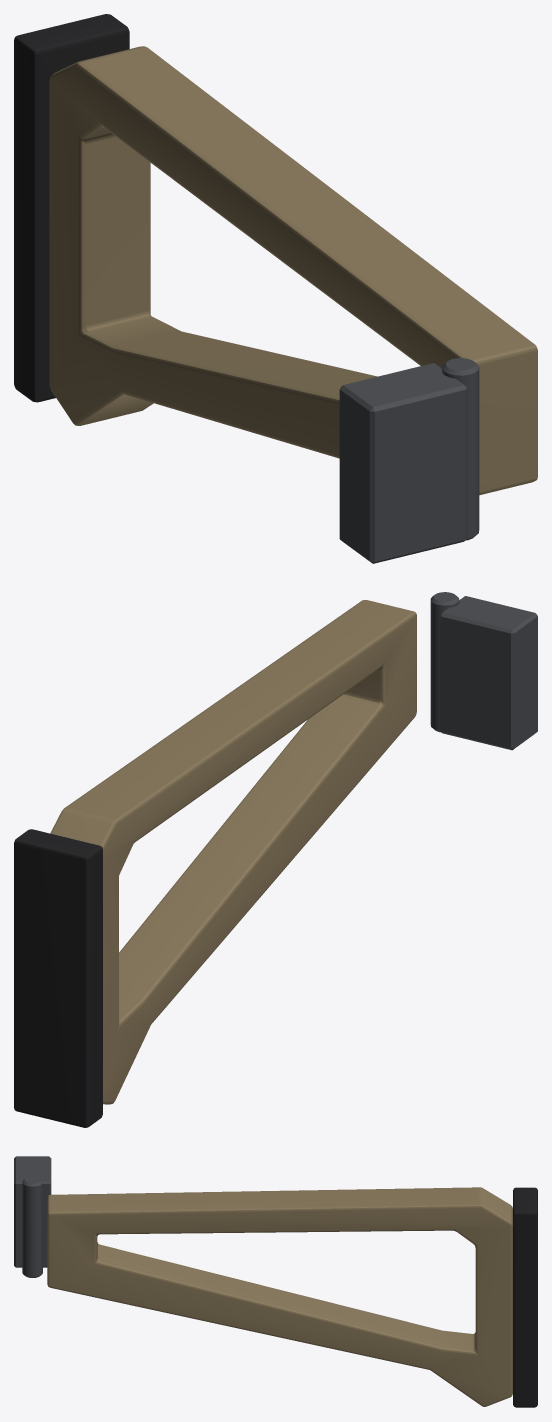
File: mod_lark_folded_stock.glb
3 views of the same model, one above another, from view 1: azimuth 30°, elevation 25°; view 2: azimuth 150°, elevation 25°; view 3: azimuth 270°, elevation 25° (orthographic). The views are drawn at different scales.
Visible parts, largest first — view 1: StockArm, Stock; view 2: StockArm, Stock; view 3: StockArm, Stock.
Boxes of the visible parts, x1,y1,x2,y2 form: StockArm: (14,14,537,495); Stock: (339,358,479,563); StockArm: (14,600,416,1127); Stock: (430,592,537,750); StockArm: (47,1187,537,1407); Stock: (14,1156,51,1277).
Bounding box in the file's own units: 0.065 × 0.1076 × 0.252.
